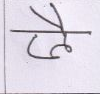ai_matra: (29, 3, 72, 31)
